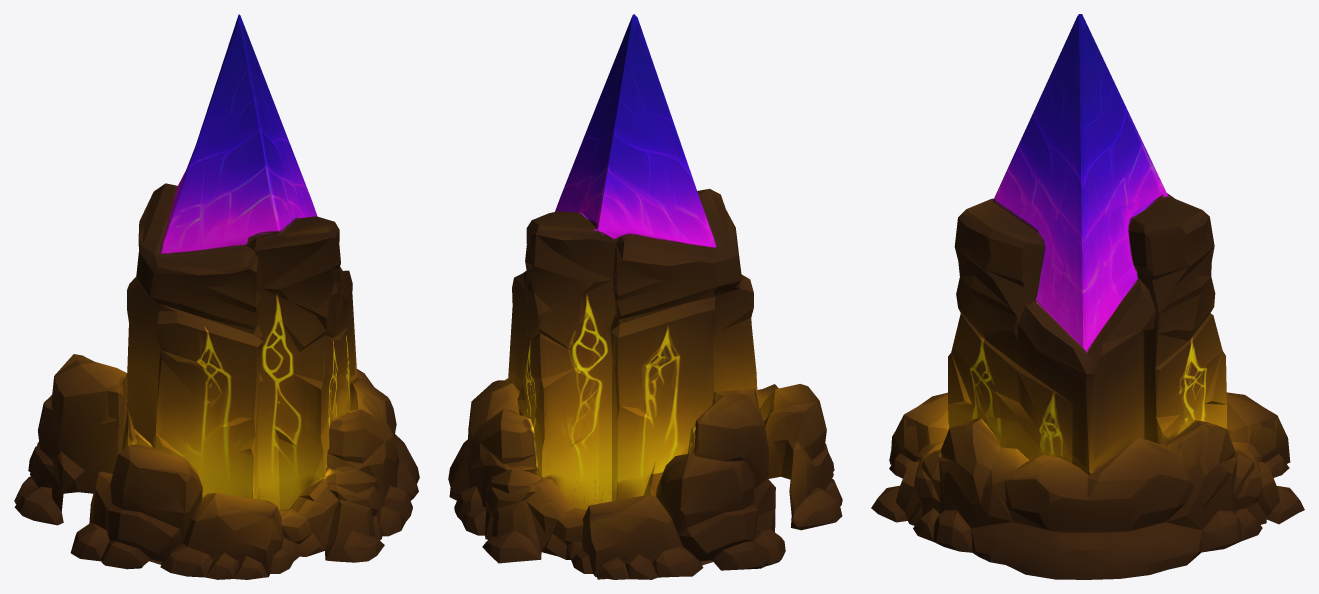
File: SM_Ore26.fbx
The picture shows the model from 3 angles, left to right: view 1: azimuth 30°, elevation 25°; view 2: azimuth 150°, elevation 25°; view 3: azimuth 270°, elevation 25°; orthographic projection.
Visible parts, largest first — view 1: Ore26; view 2: Ore26; view 3: Ore26.
Boxes of the visible parts, left/top/right/bottom form: Ore26: left=14, top=14, right=419, bottom=579; Ore26: left=448, top=14, right=842, bottom=579; Ore26: left=871, top=14, right=1304, bottom=579.
Size of the model in its own units: 141 by 185 by 149.
Materials: 1 (1 with a texture image).
